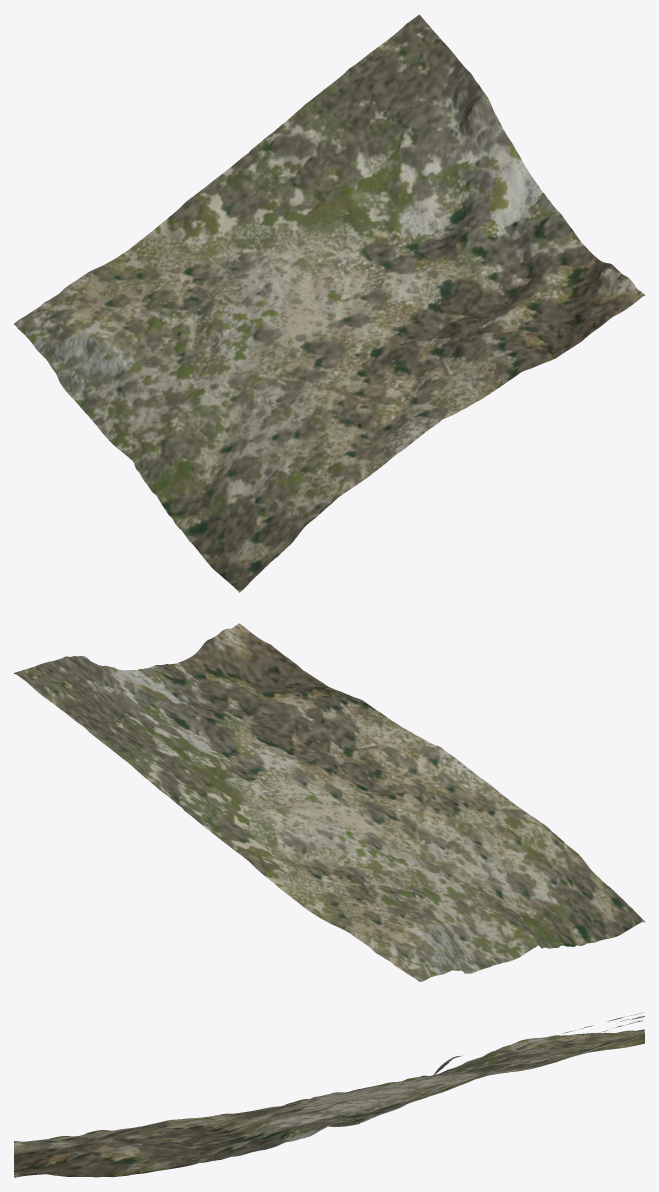
3 renders of one model, top to bottom at view 1: azimuth 30°, elevation 25°; view 2: azimuth 150°, elevation 25°; view 3: azimuth 270°, elevation 25°, orthographic. The views are drawn at different scales.
Bounding box in the file's own units: 250 × 186 × 241.
Materials: 1 (1 with a texture image).
